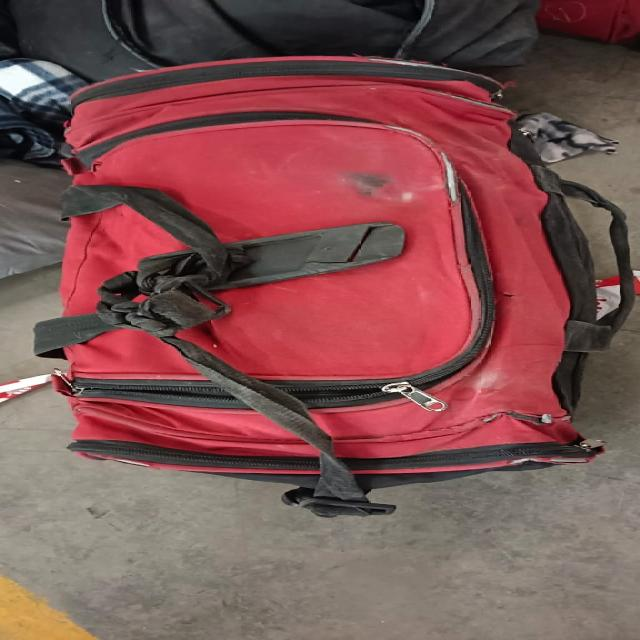Damage-bag: (36, 185, 478, 500), (414, 451, 586, 481), (446, 158, 486, 260), (494, 411, 550, 422), (483, 416, 489, 421)
